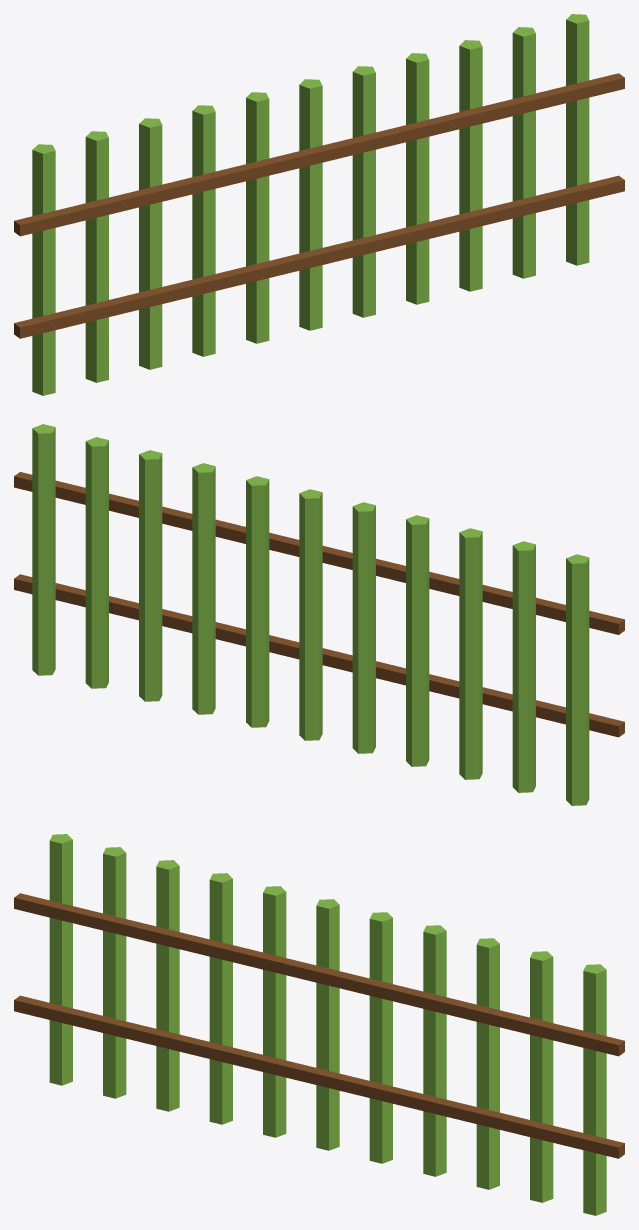
The model's file is bamboo_fence.glb.
The picture shows the model from 3 angles, top to bottom: view 1: azimuth 30°, elevation 25°; view 2: azimuth 150°, elevation 25°; view 3: azimuth 330°, elevation 25°; orthographic projection.
Parts seen in each view (by area): view 1: bamboo_fence; view 2: bamboo_fence; view 3: bamboo_fence.
Boxes of the visible parts, bbox=[...] form: bamboo_fence: bbox=[14, 14, 624, 395]; bamboo_fence: bbox=[14, 424, 624, 805]; bamboo_fence: bbox=[14, 834, 624, 1215].
Size of the model in its own units: 3.4 by 1.3 by 0.17.
